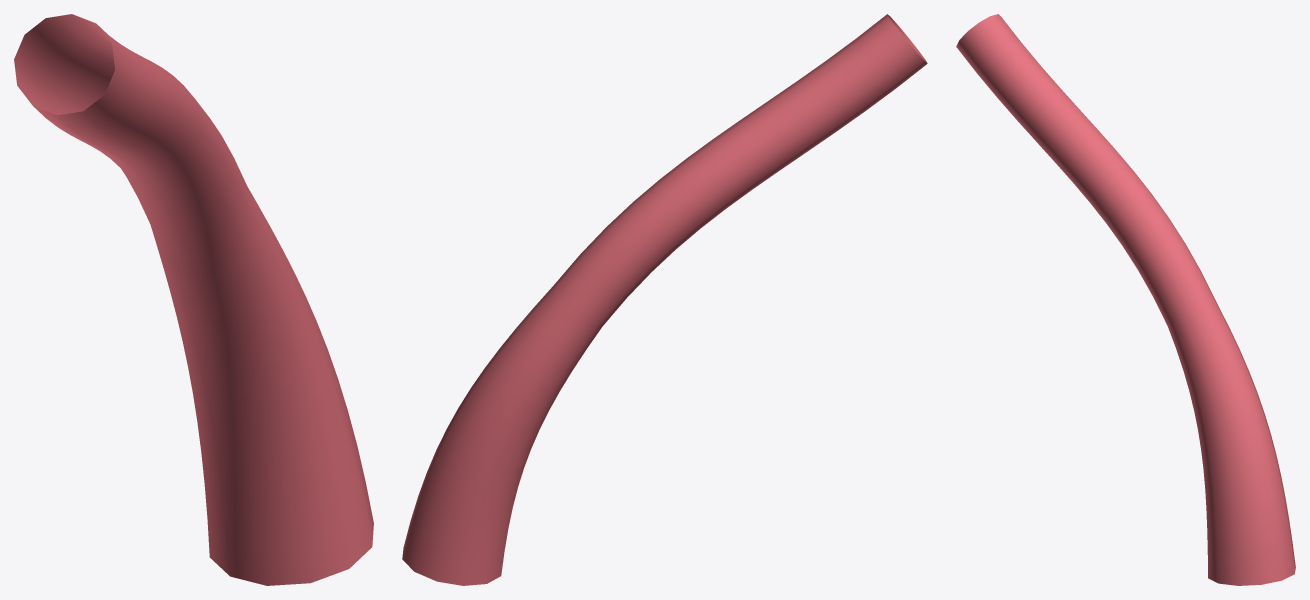
3 renders of one model, left to right at view 1: azimuth 30°, elevation 25°; view 2: azimuth 150°, elevation 25°; view 3: azimuth 270°, elevation 25°, orthographic. The views are drawn at different scales.
Visible parts, largest first — view 1: ZA_55e88a8cf57403fb; view 2: ZA_55e88a8cf57403fb; view 3: ZA_55e88a8cf57403fb.
Part boxes in pixels (x1=…): ZA_55e88a8cf57403fb: x1=14, y1=14, x2=373, y2=585; ZA_55e88a8cf57403fb: x1=402, y1=14, x2=927, y2=585; ZA_55e88a8cf57403fb: x1=956, y1=14, x2=1295, y2=585.
Size of the model in its own units: 0.0105 by 0.0141 by 0.00982.
